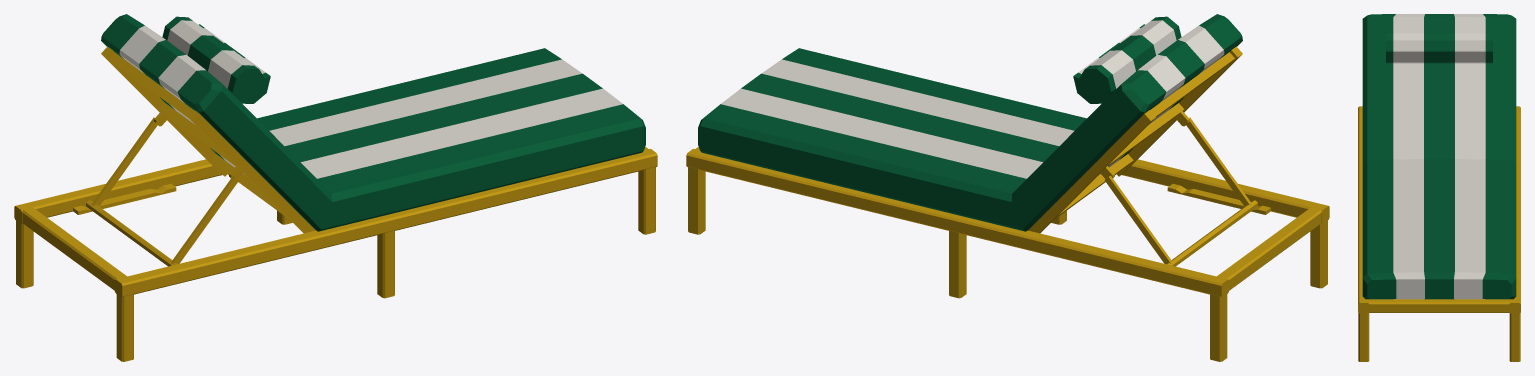
File: padded-pool-chaise-5b08a9.glb
3 views of the same model, side by side, from view 1: azimuth 30°, elevation 25°; view 2: azimuth 150°, elevation 25°; view 3: azimuth 270°, elevation 25° (orthographic). The views are drawn at different scales.
Parts seen in each view (by area): view 1: chaise-frame, backrest-pad, towel-roll; view 2: chaise-frame, backrest-pad, towel-roll; view 3: chaise-frame, backrest-pad, towel-roll.
Boxes of the visible parts, bbox=[...] form: chaise-frame: bbox=[14, 48, 657, 361]; backrest-pad: bbox=[86, 14, 332, 266]; towel-roll: bbox=[162, 16, 270, 103]; chaise-frame: bbox=[686, 48, 1329, 361]; backrest-pad: bbox=[1011, 14, 1257, 266]; towel-roll: bbox=[1073, 16, 1181, 103]; chaise-frame: bbox=[1358, 106, 1520, 361]; backrest-pad: bbox=[1362, 14, 1516, 162]; towel-roll: bbox=[1386, 33, 1492, 63].
Size of the model in its own units: 2 by 0.8912 by 0.7.
